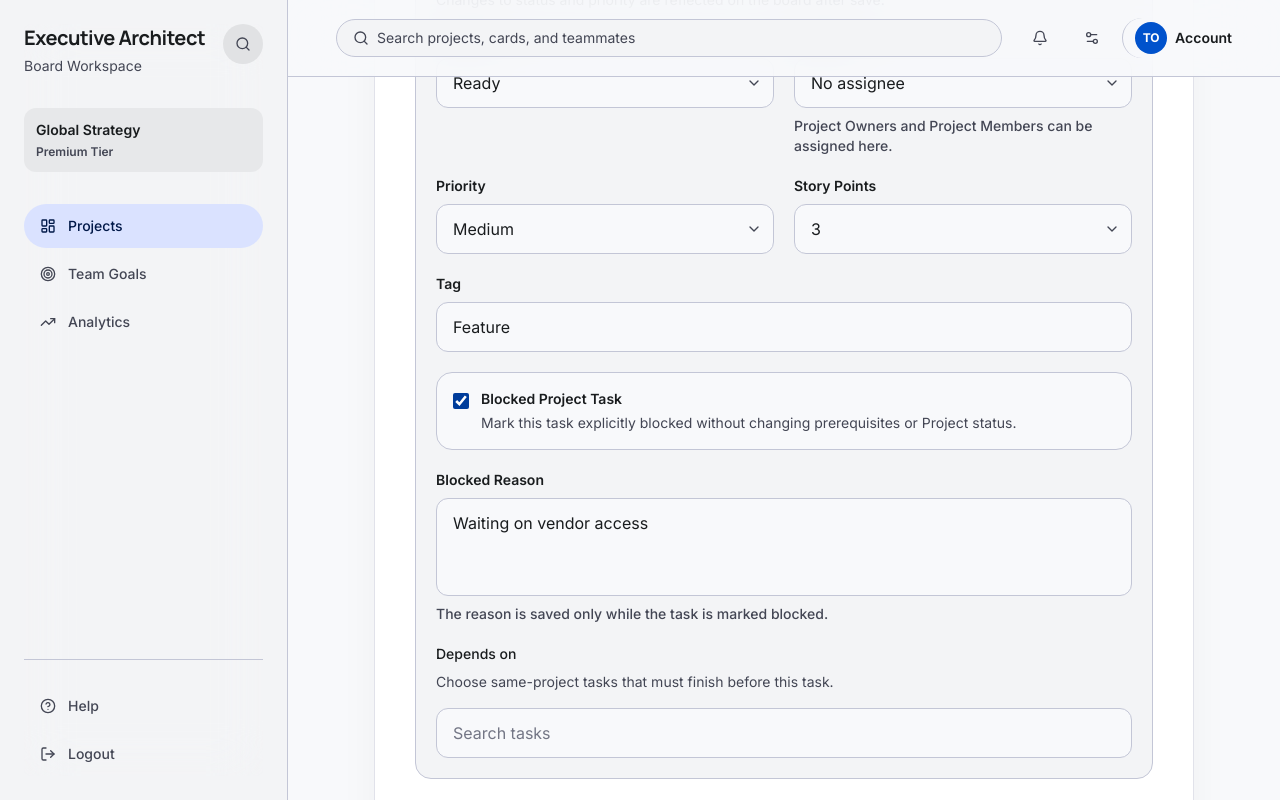
it: TaskDetailPage › clears explicit blocked marker and reason from task details
(page scrolled)
Check: the text box labelled "Blocked Reason" is enabled, box [436,498,1132,596]
Click the checkbox labelled "Blocked Project Task". click: [461, 401]
box: [453,393,469,409]
(page scrolled)
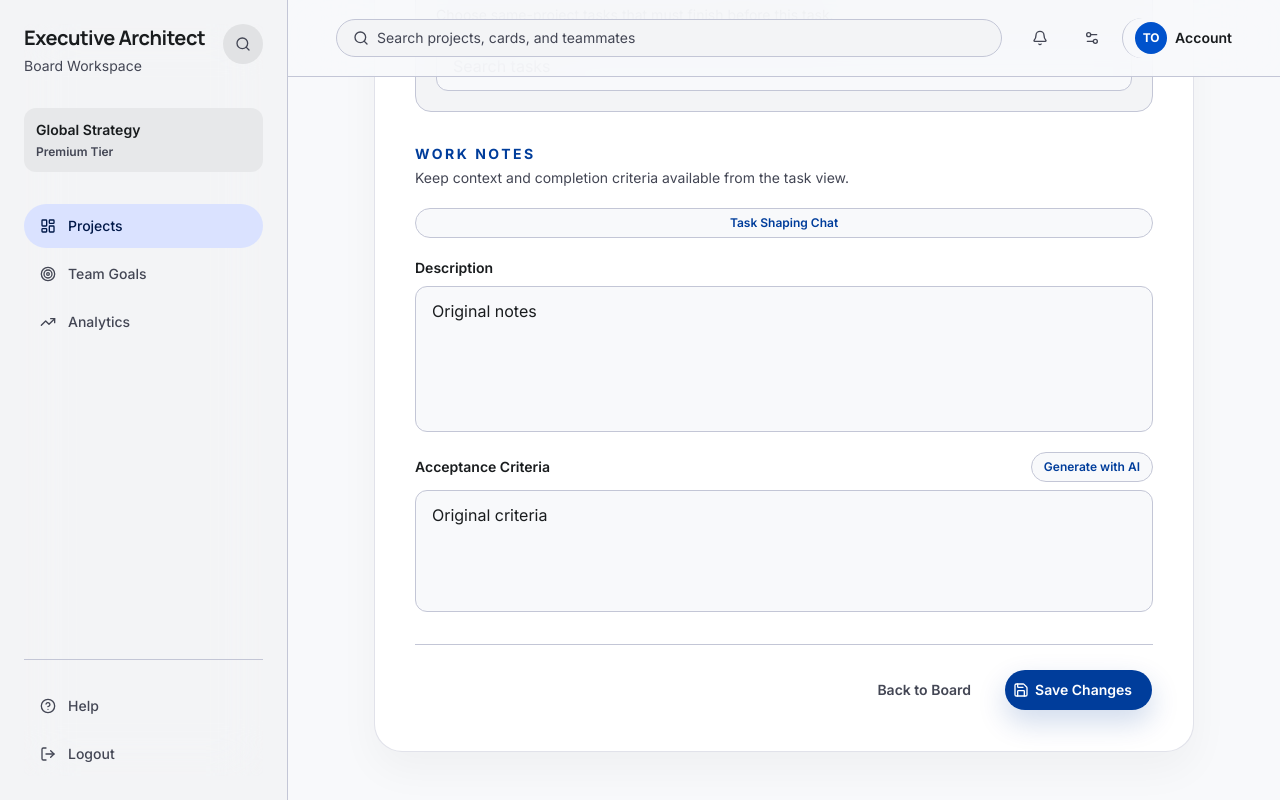
Click the button "Save Changes". click: [1079, 690]
box: [1004,669,1153,711]
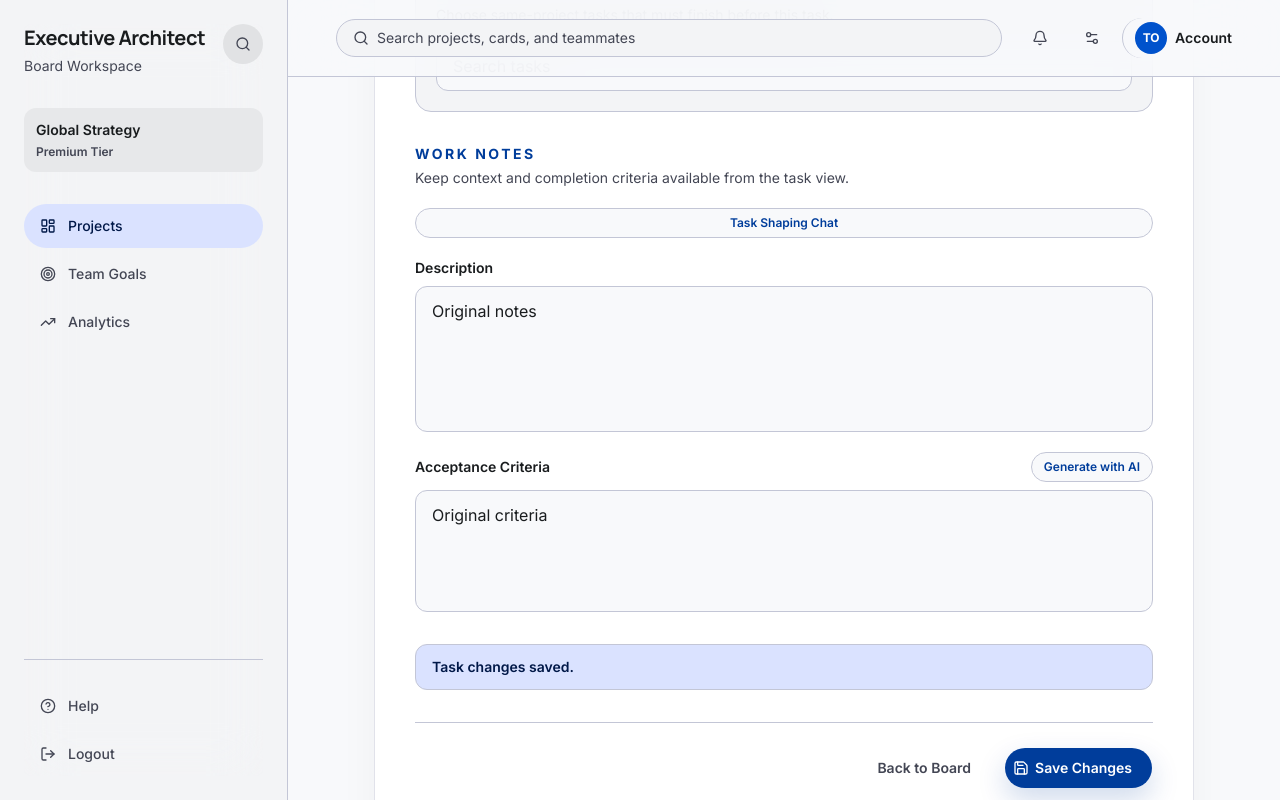
Check: the text "Task changes saved." is shown, box [415,644,1153,690]
